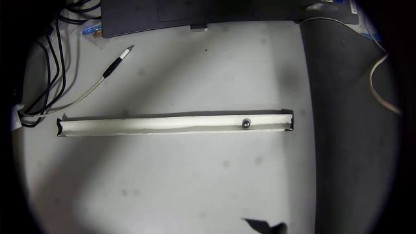gangzhu: (238, 119, 249, 130)
